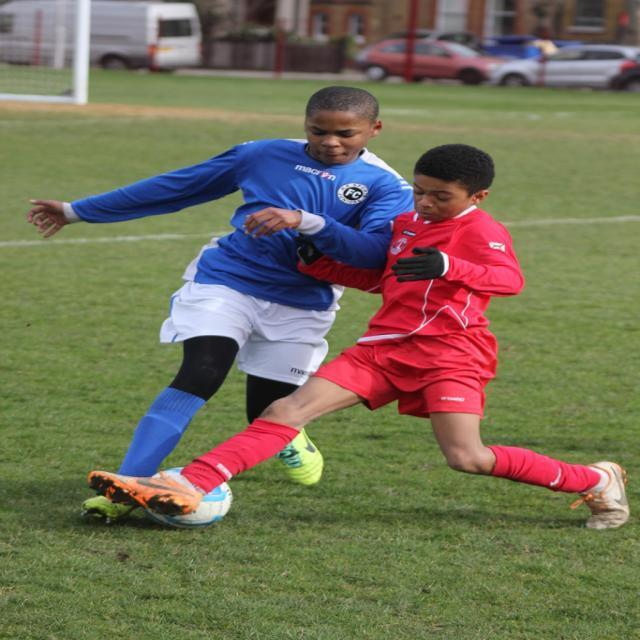football: (132, 463, 249, 541)
